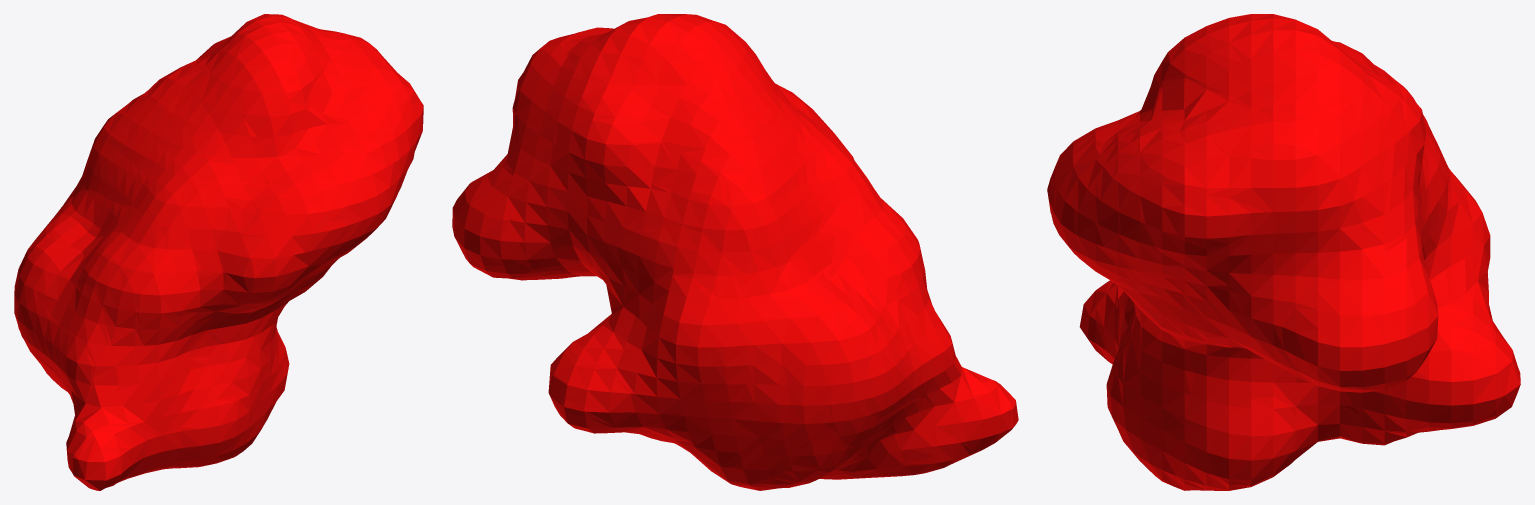
Rendered from ybjN_coarse.dae.
3 views of the same model, side by side, from view 1: azimuth 30°, elevation 25°; view 2: azimuth 150°, elevation 25°; view 3: azimuth 270°, elevation 25° (orthographic). The views are drawn at different scales.
Parts seen in each view (by area): view 1: ybjN; view 2: ybjN; view 3: ybjN.
Part boxes in pixels (x1,y1,x2,y2): ybjN: [14, 14, 423, 490]; ybjN: [452, 14, 1018, 490]; ybjN: [1047, 14, 1520, 490].
Bounding box in the file's own units: 50.16 × 45.83 × 38.25.
